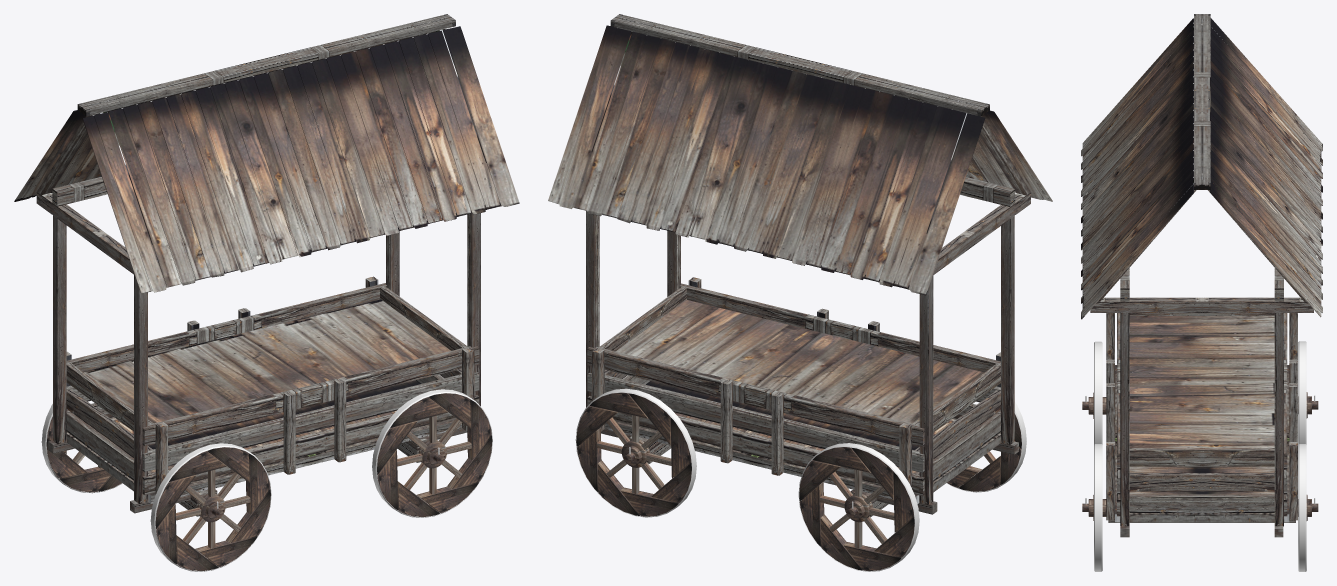
Rendered from food_cart_b.glb.
3 views of the same model, side by side, from view 1: azimuth 30°, elevation 25°; view 2: azimuth 150°, elevation 25°; view 3: azimuth 270°, elevation 25° (orthographic). The views are drawn at different scales.
Visible parts, largest first — view 1: food_cart_b; view 2: food_cart_b; view 3: food_cart_b.
Boxes of the visible parts, box(x1,y1,x2,y2) form: food_cart_b: box(14, 14, 519, 571); food_cart_b: box(548, 14, 1052, 571); food_cart_b: box(1081, 14, 1322, 571).
Bounding box in the file's own units: 1.98 × 2.2 × 1.16.
Materials: 3 (1 with a texture image).
